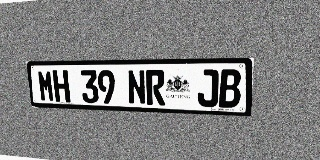3: (80, 70, 99, 103)
9: (97, 70, 116, 104)
B: (219, 69, 241, 108)
H: (52, 70, 70, 102)
J: (197, 69, 219, 107)
M: (37, 70, 55, 102)
N: (127, 70, 146, 105)
R: (146, 70, 165, 105)
